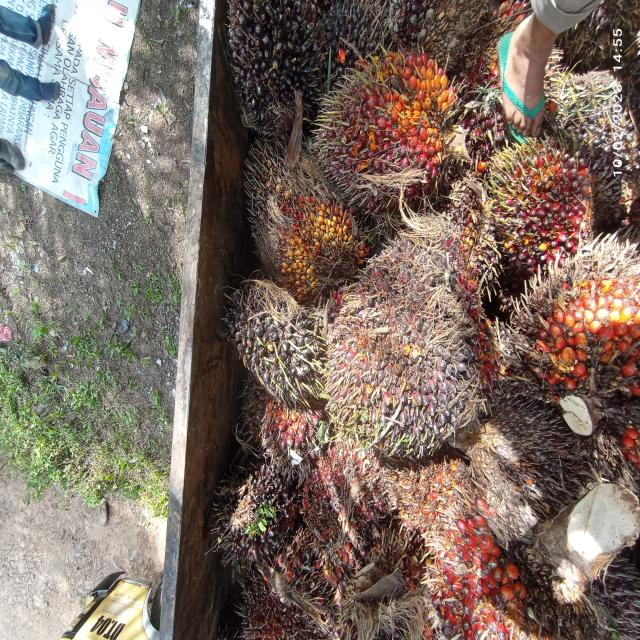fraksi 00: (299, 201, 522, 506), (234, 120, 371, 306), (216, 267, 342, 425), (204, 465, 305, 579)
fraksi 1: (472, 132, 603, 282), (292, 422, 405, 582)
fraksi 3: (305, 27, 473, 228), (408, 475, 546, 640)
fraksi 4: (509, 220, 640, 489)
